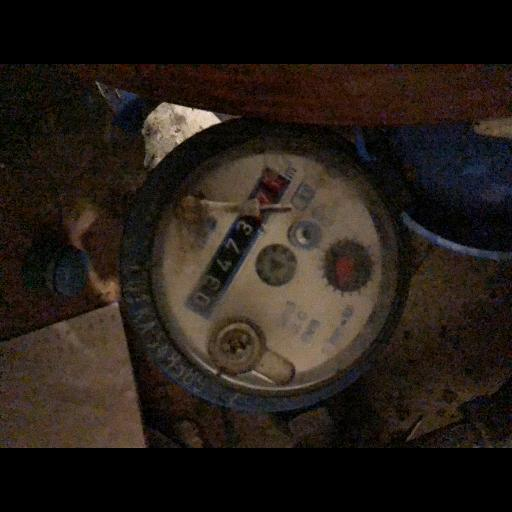0: (186, 286, 217, 316)
3: (196, 268, 228, 298), (230, 215, 261, 244)
4: (208, 249, 239, 279)
7: (218, 231, 250, 261), (251, 186, 278, 211)
border_water_meter_number: (181, 165, 293, 321)
